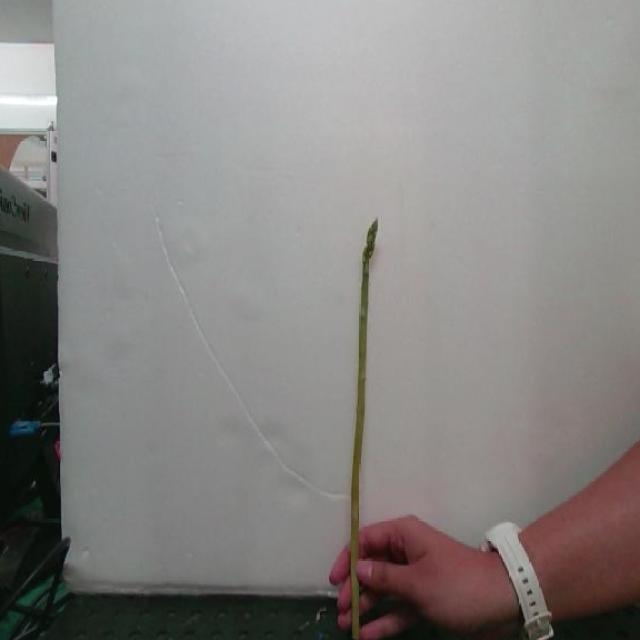aspargus: (346, 225, 381, 636)
